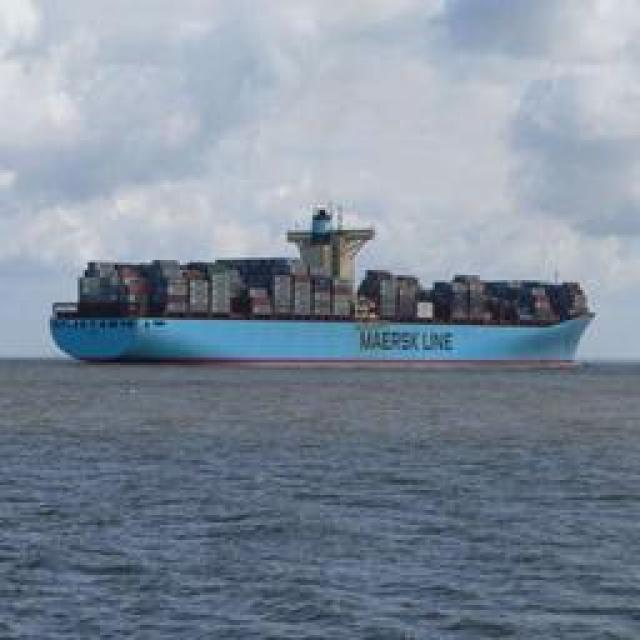CIV_Ship: (54, 242, 608, 366)
